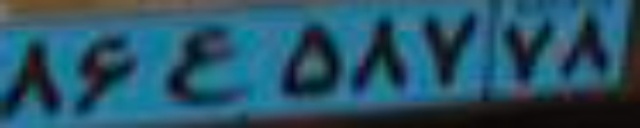5: (277, 23, 341, 95)
6: (73, 37, 138, 114)
7: (418, 9, 484, 89), (501, 17, 555, 84)
8: (345, 16, 410, 94), (2, 40, 63, 116), (563, 13, 611, 79)
saat: (161, 29, 255, 110)
